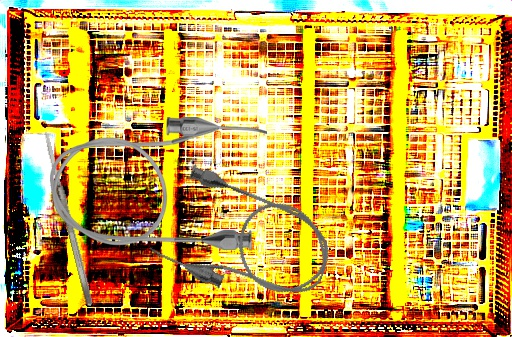Cannula: (145, 159, 344, 323), (50, 117, 267, 250)
Spatula Surgical: (41, 130, 95, 307)
